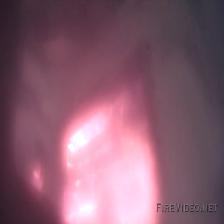fire: (41, 84, 181, 224)
